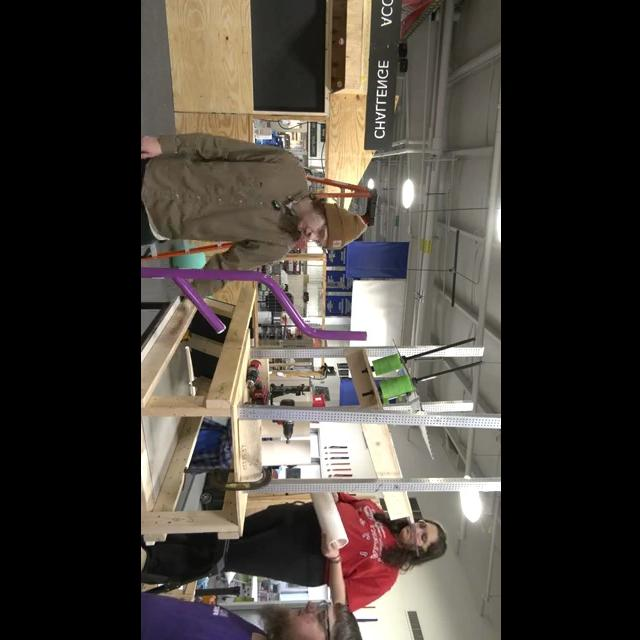CORAL: (310, 492, 350, 552), (262, 441, 310, 464), (260, 419, 308, 436)
